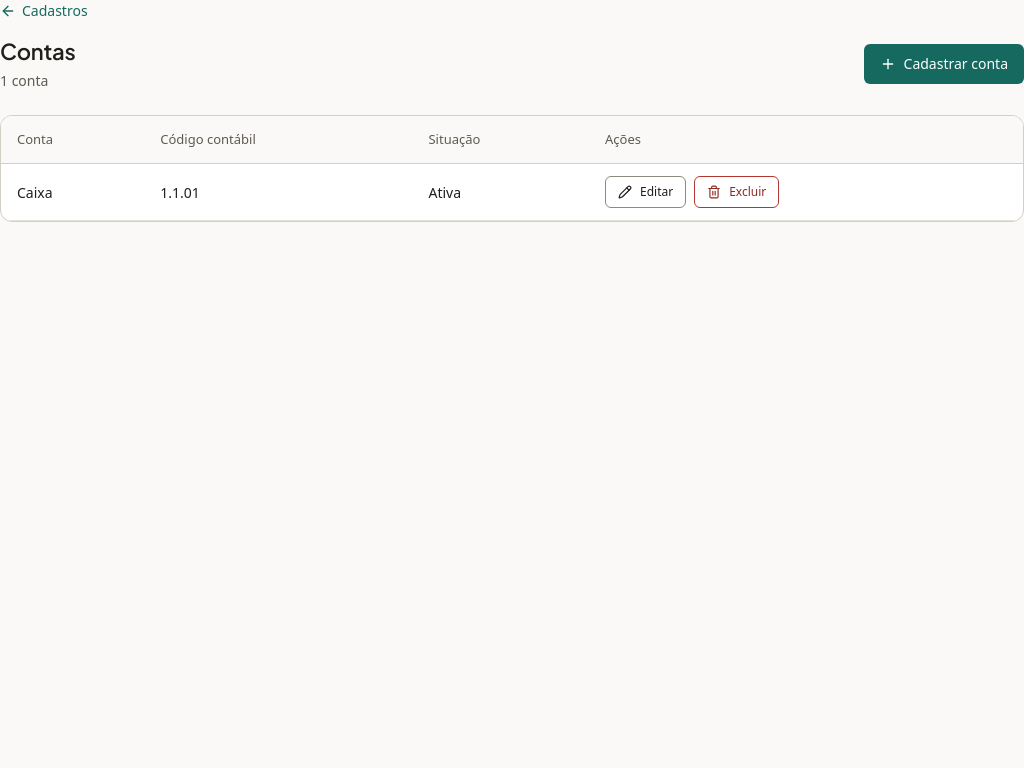
Test: Contas — a recusa do servidor vira correção possível › deve manter a conta na lista e sugerir desativar quando a exclusão é recusada
This screenshot has width=1024, height=768.
Check: the text "Caixa" is shown, box [1,164,144,221]
Click the button "Excluir" at (737, 192), box [694,176,779,208]
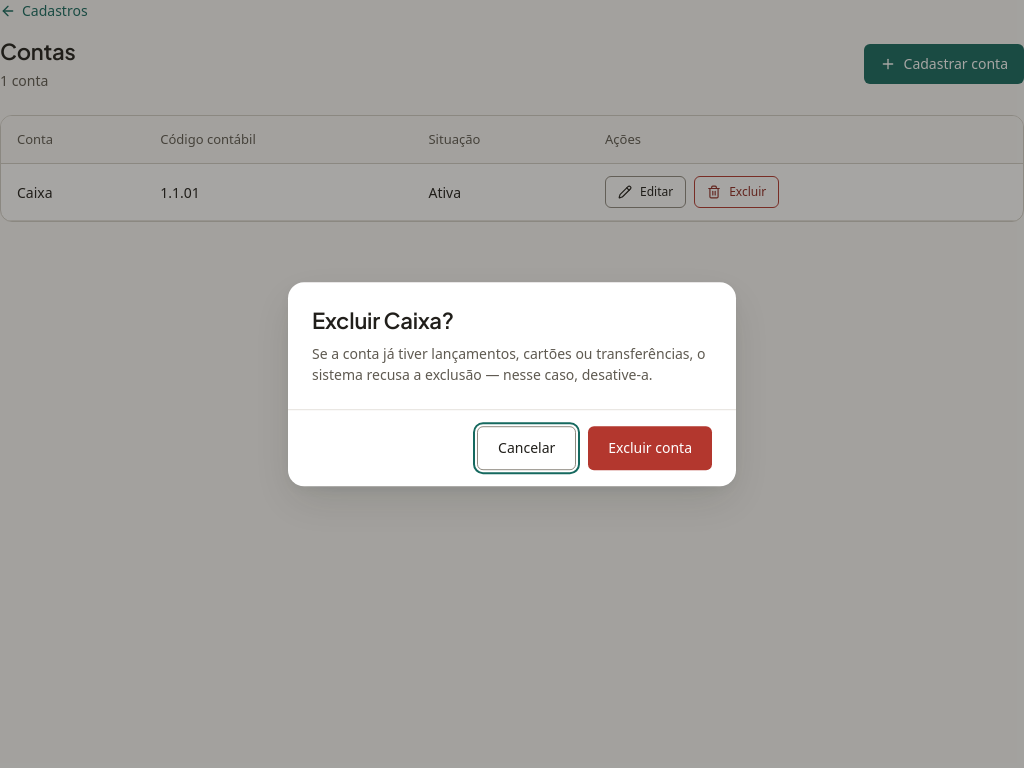
Check: the text "nesse caso, desative-a" is shown, box [312,344,705,384]
Click the button "Excluir conta" at (650, 448), box [588,426,712,470]
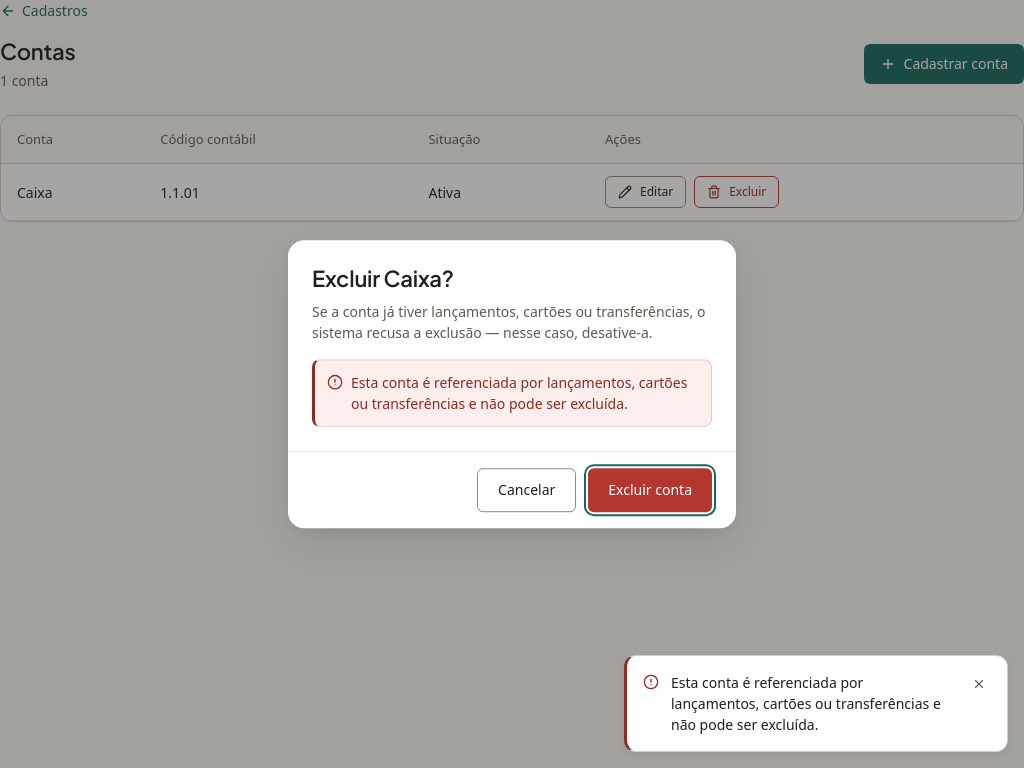
Check: the text "Caixa" is shown, box [1,164,144,221]
Check: the text "Esta conta é referenciada por lançamentos, cartões ou transferências e não pode ser excluída." below "Excluir Caixa?" is shown, box [351,373,687,413]
